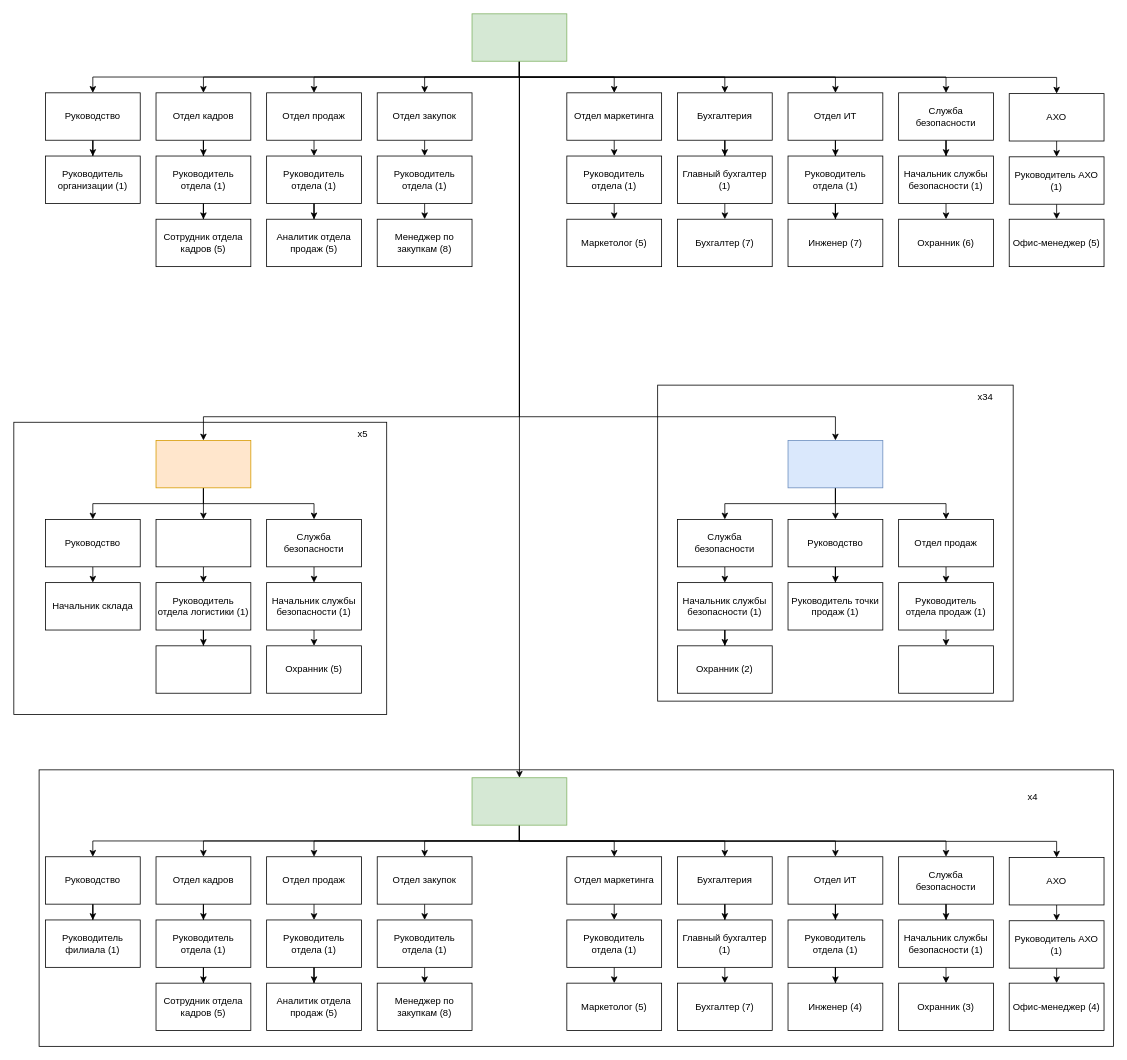
Some shapes in this 1127 by 1060 pixel diagram are drawn without their labels. Here are the shapes that lost their labels. From the top down, the box of each, then its label:
(471, 13, 567, 61): Штаб-квартира
(155, 440, 251, 488): Склад
(787, 440, 883, 488): Точки продаж
(155, 519, 251, 567): Отдел логистики
(155, 645, 251, 693): Логист (4)
(898, 645, 993, 693): Менеджер по продажам (5)
(471, 777, 567, 825): Филиал
